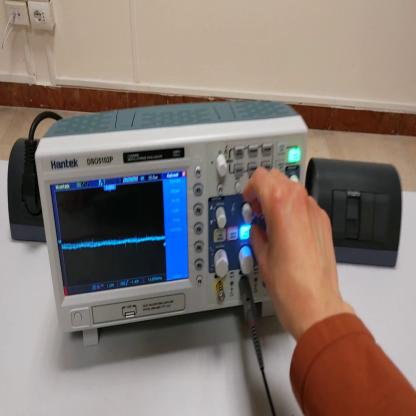hand: (243, 167, 342, 335)
oscilloscope: (35, 104, 306, 349)
socket: (7, 138, 46, 245)
